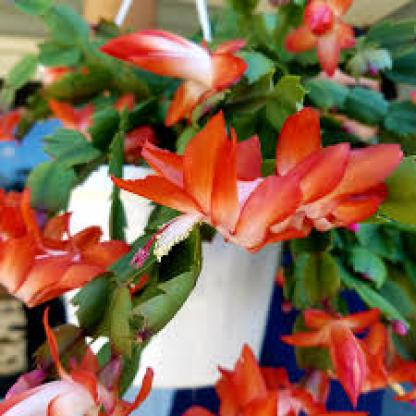Aglonema: (229, 111, 416, 317), (25, 234, 195, 407), (13, 46, 210, 151), (17, 174, 116, 223)
